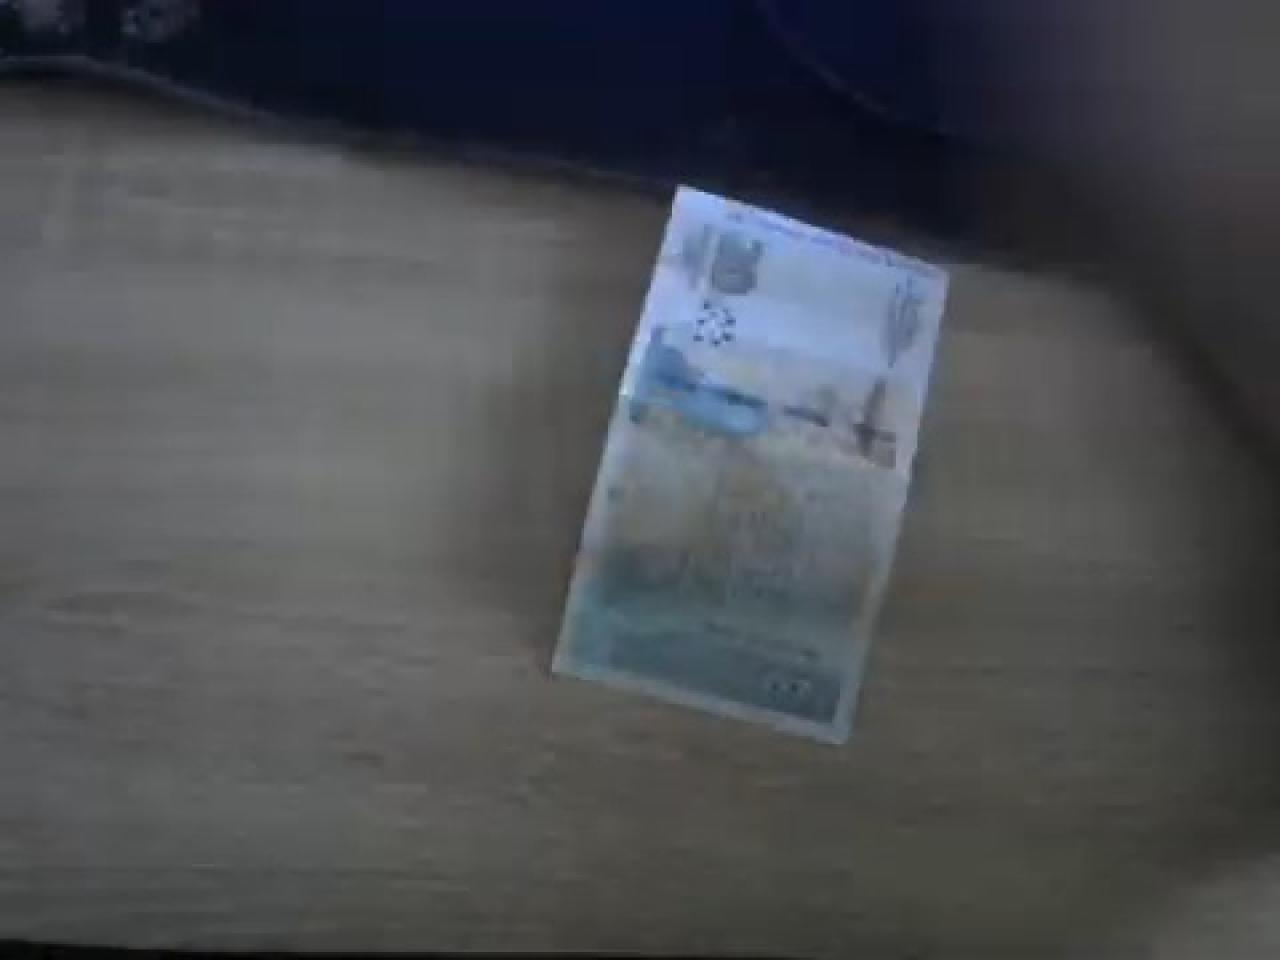20leva: (546, 190, 952, 749)
